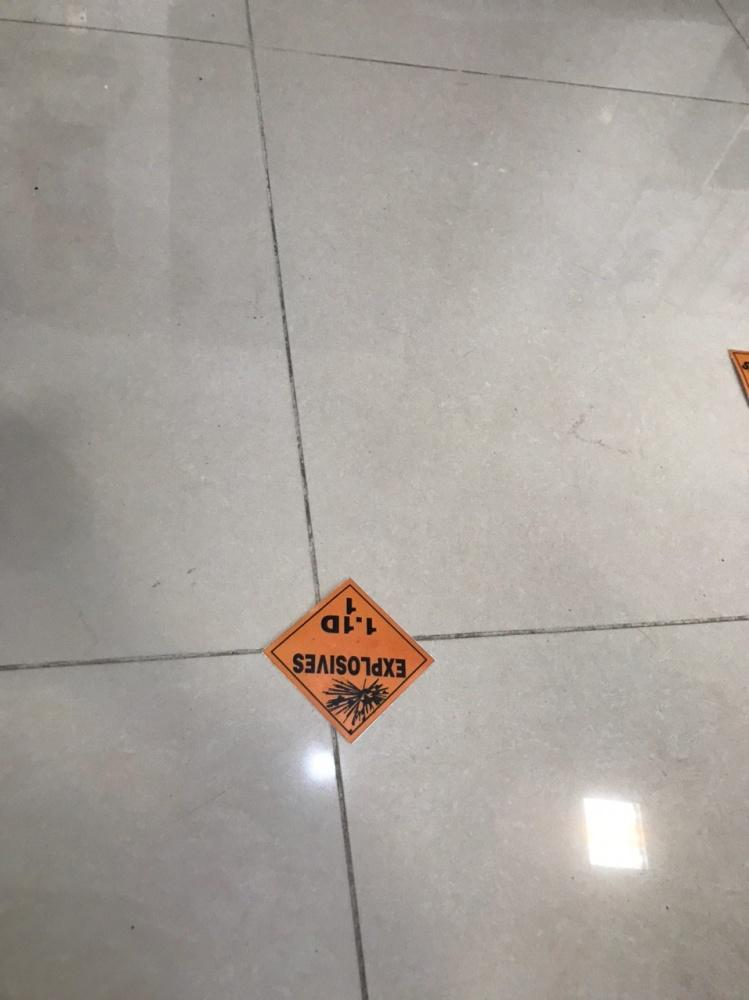explosive: (265, 574, 439, 744)
